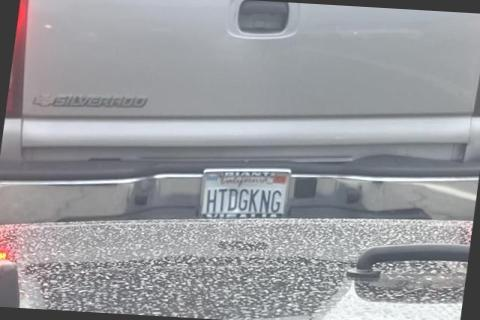LicensePlate: (195, 166, 291, 219)
